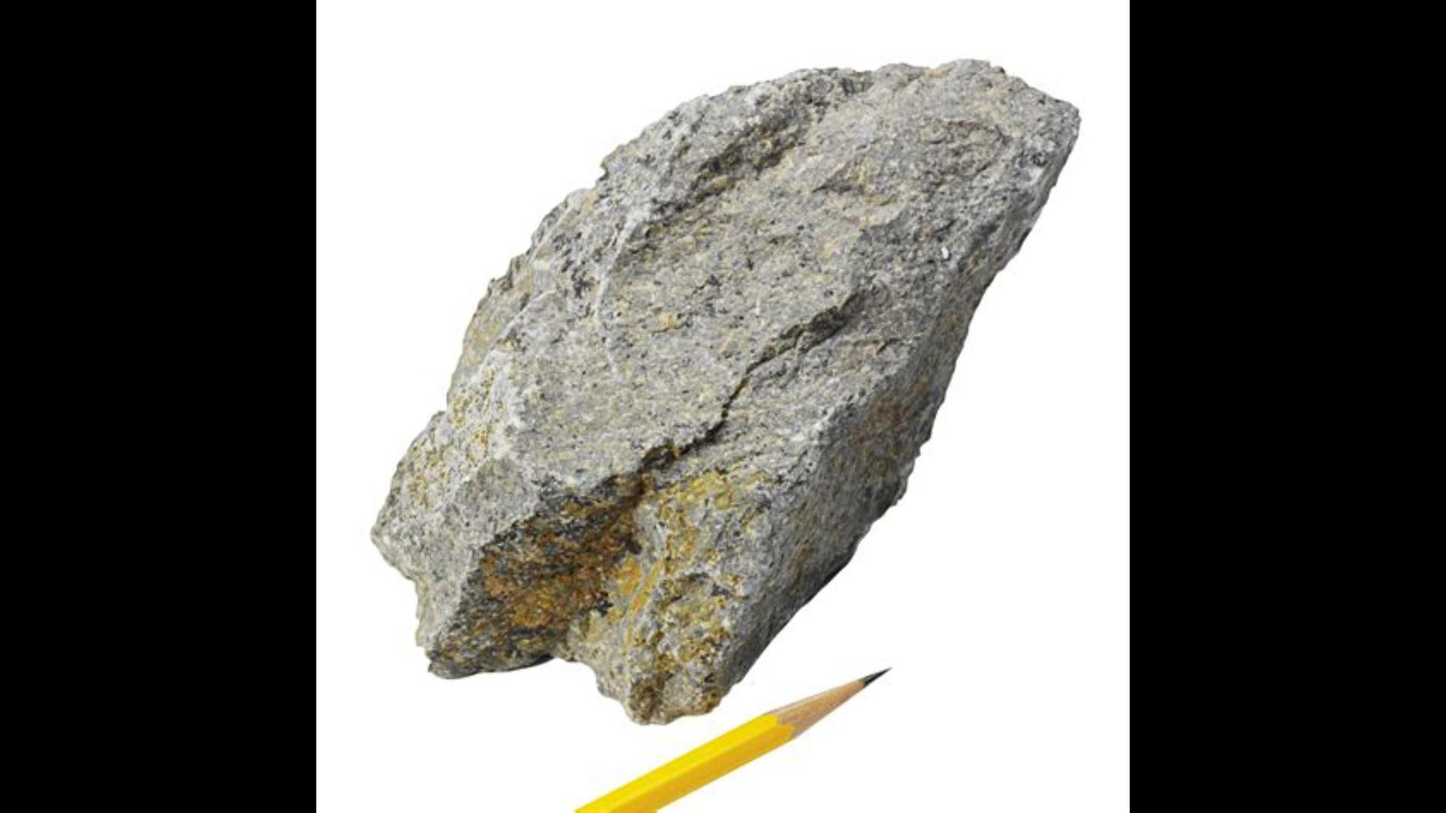rock: (373, 60, 1076, 722)
